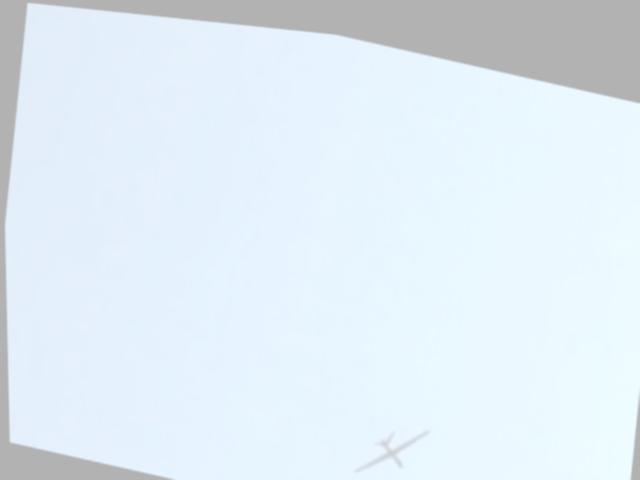uav: (343, 399, 437, 480)
